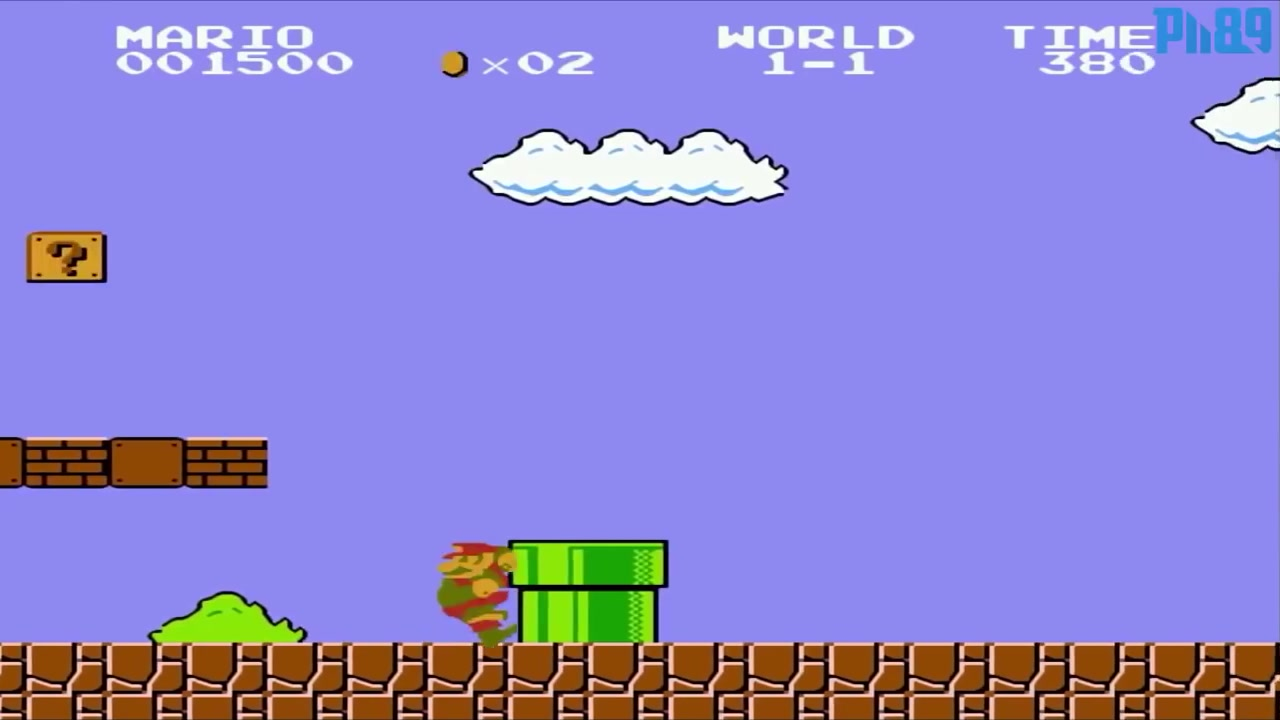mario: (427, 534, 529, 649)
